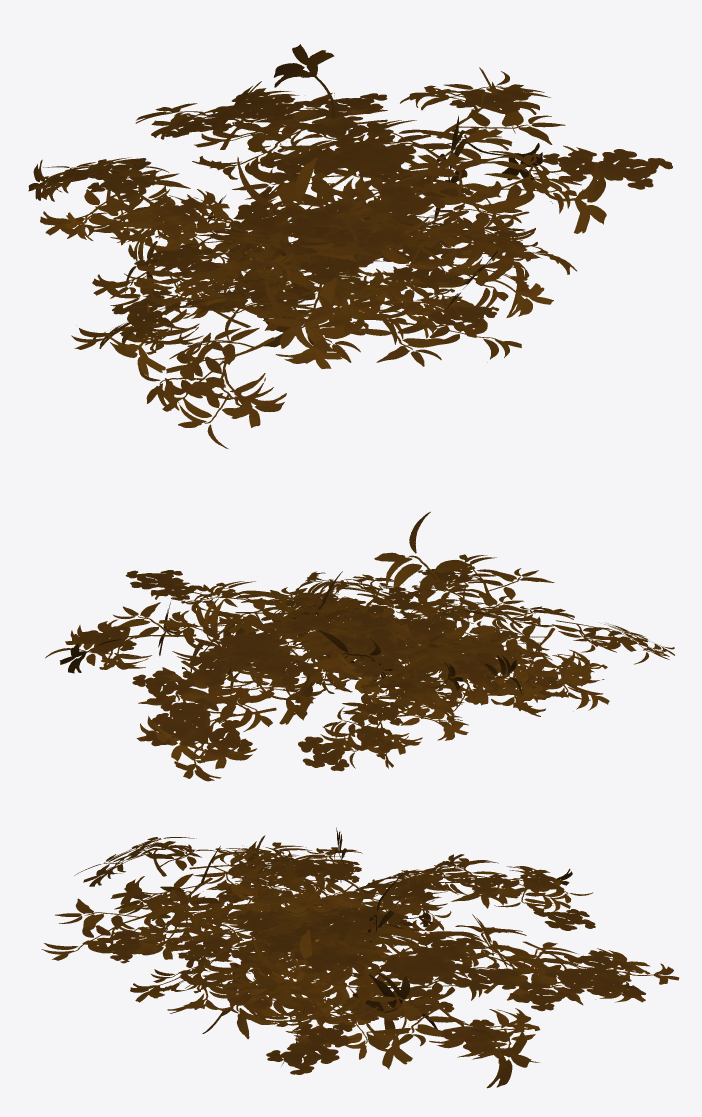
3 views of the same model, one above another, from view 1: azimuth 30°, elevation 25°; view 2: azimuth 150°, elevation 25°; view 3: azimuth 270°, elevation 25° (orthographic). The views are drawn at different scales.
Parts seen in each view (by area): view 1: SM_DR_Leaf_Piles_01_LOD0; view 2: SM_DR_Leaf_Piles_01_LOD0; view 3: SM_DR_Leaf_Piles_01_LOD0.
Boxes of the visible parts, x1,y1,x2,y2 form: SM_DR_Leaf_Piles_01_LOD0: (28, 44, 672, 448); SM_DR_Leaf_Piles_01_LOD0: (45, 511, 674, 781); SM_DR_Leaf_Piles_01_LOD0: (41, 827, 679, 1088).
Bounding box in the file's own units: 1.05 × 0.2929 × 1.1.
Materials: 1 (1 with a texture image).
